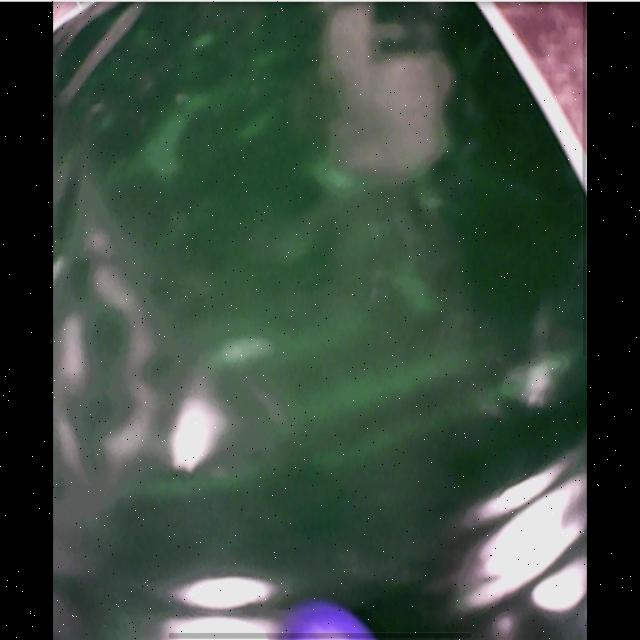ball: (278, 605, 377, 639)
